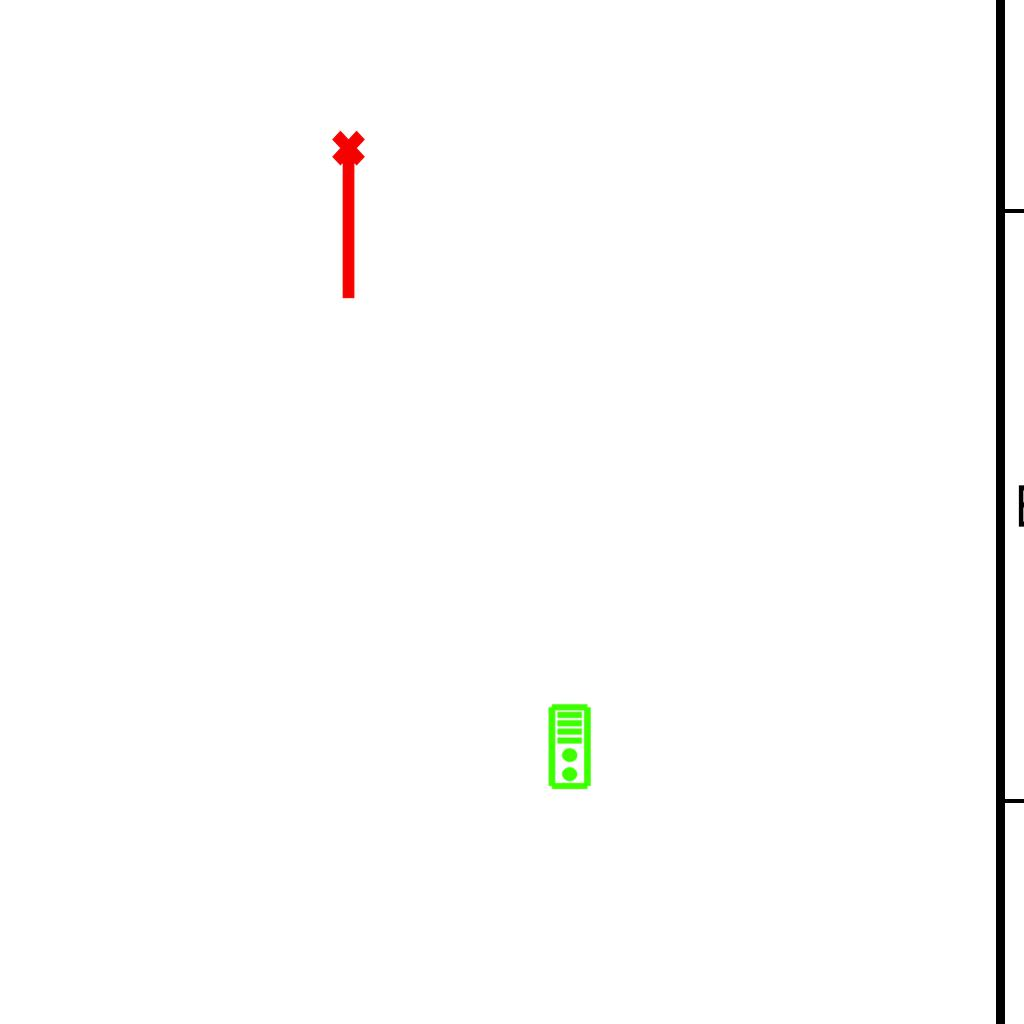ASR_Ansaugoeffnung: (328, 128, 374, 304)
Gegensprechanlage_mit_Video: (547, 703, 594, 791)
